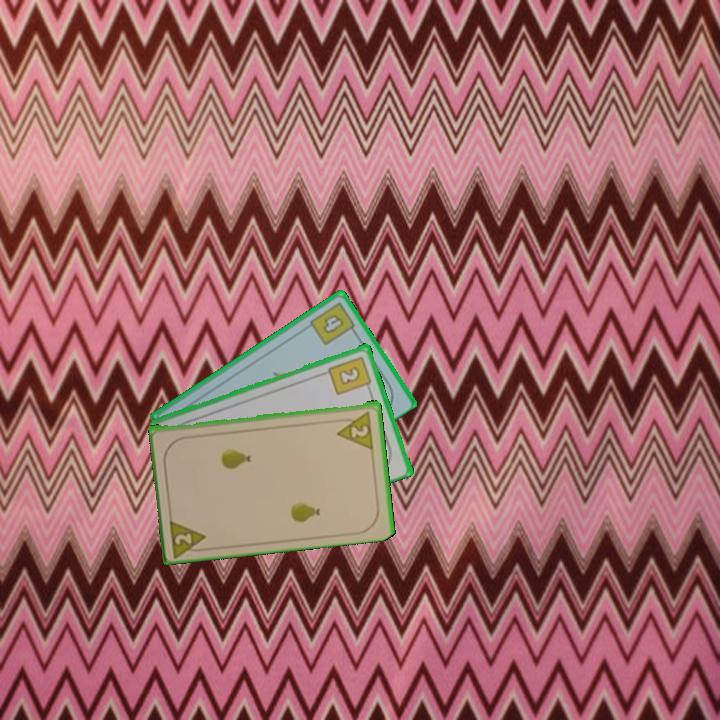2b: (325, 352, 375, 397)
2p: (166, 514, 211, 558), (333, 407, 376, 451)
4b: (306, 298, 360, 348)
